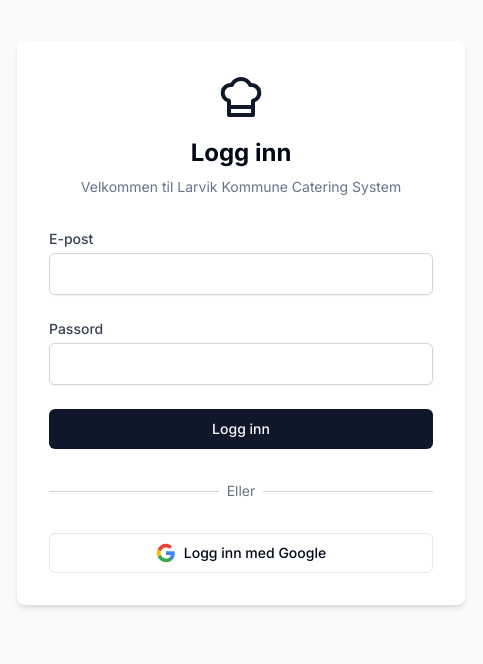
Test: Authentication › should display error on failed login
Type "test@example.com" into the field labelled "E-post" at (241, 274), box [49,253,433,295]
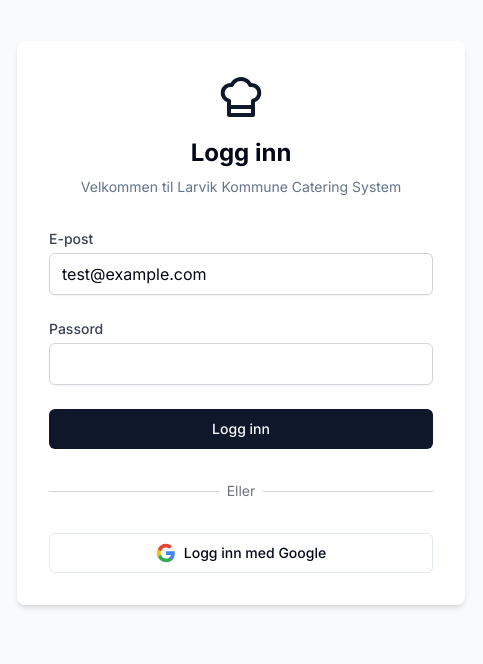
Type "wrongpassword" into the password field labelled "Passord" at (241, 364), box [49,343,433,385]
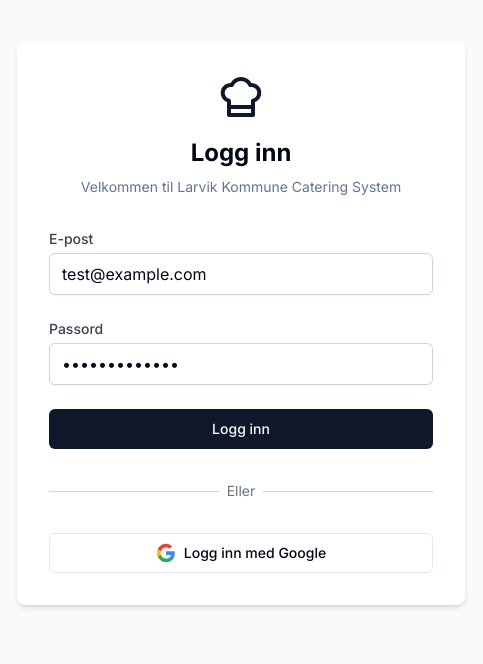
Click the button "Logg inn" at (241, 429), box [49,409,433,449]
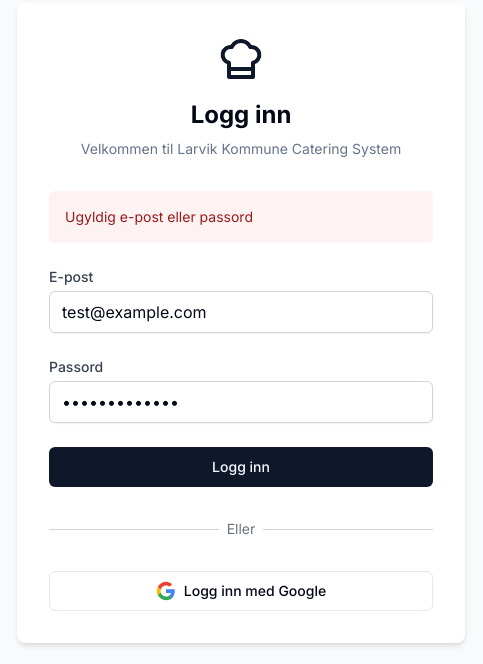
Now the text "Ugyldig e-post eller passord" is shown, box [49,191,433,243]
